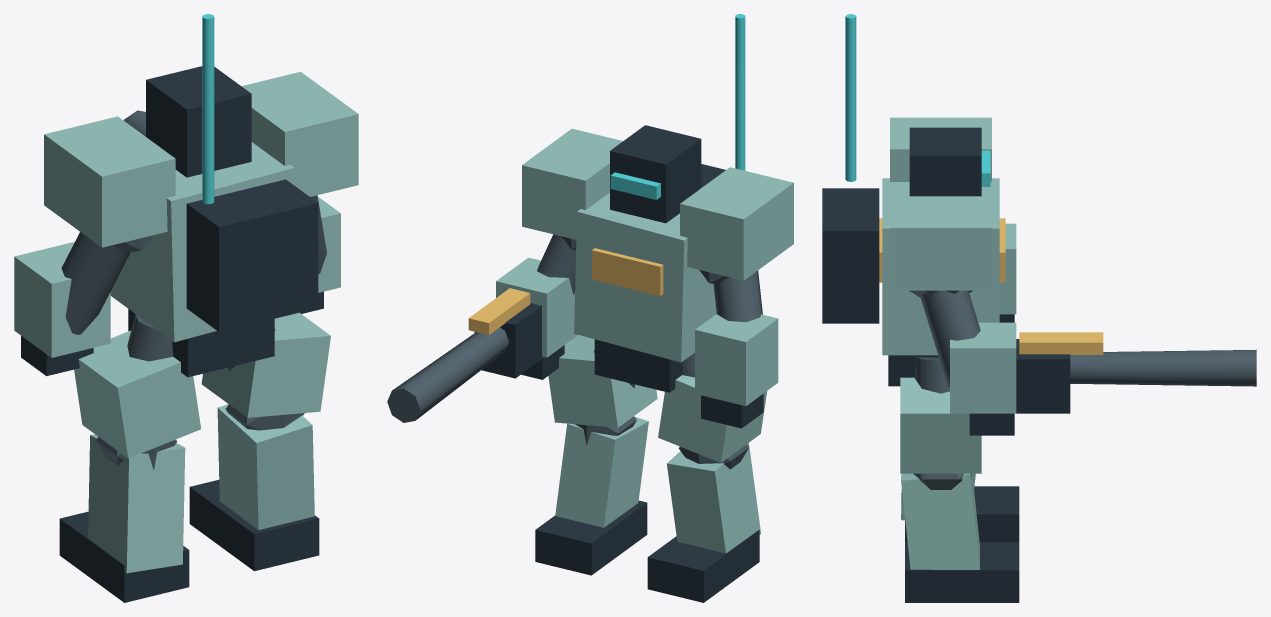
File: frame-swallowtail.glb
3 views of the same model, side by side, from view 1: azimuth 30°, elevation 25°; view 2: azimuth 150°, elevation 25°; view 3: azimuth 270°, elevation 25° (orthographic). The views are drawn at different scales.
Visible parts, largest first — view 1: frame-swallowtail; view 2: frame-swallowtail; view 3: frame-swallowtail.
Part boxes in pixels (x1,y1,x2,y2): frame-swallowtail: [14, 14, 358, 602]; frame-swallowtail: [387, 14, 793, 602]; frame-swallowtail: [822, 14, 1256, 602].
Size of the model in its own units: 0.98 by 1.93 by 1.44.
